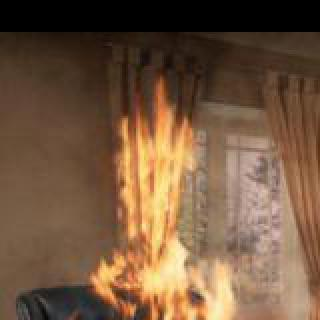fire: (20, 254, 320, 320), (102, 68, 210, 248)
